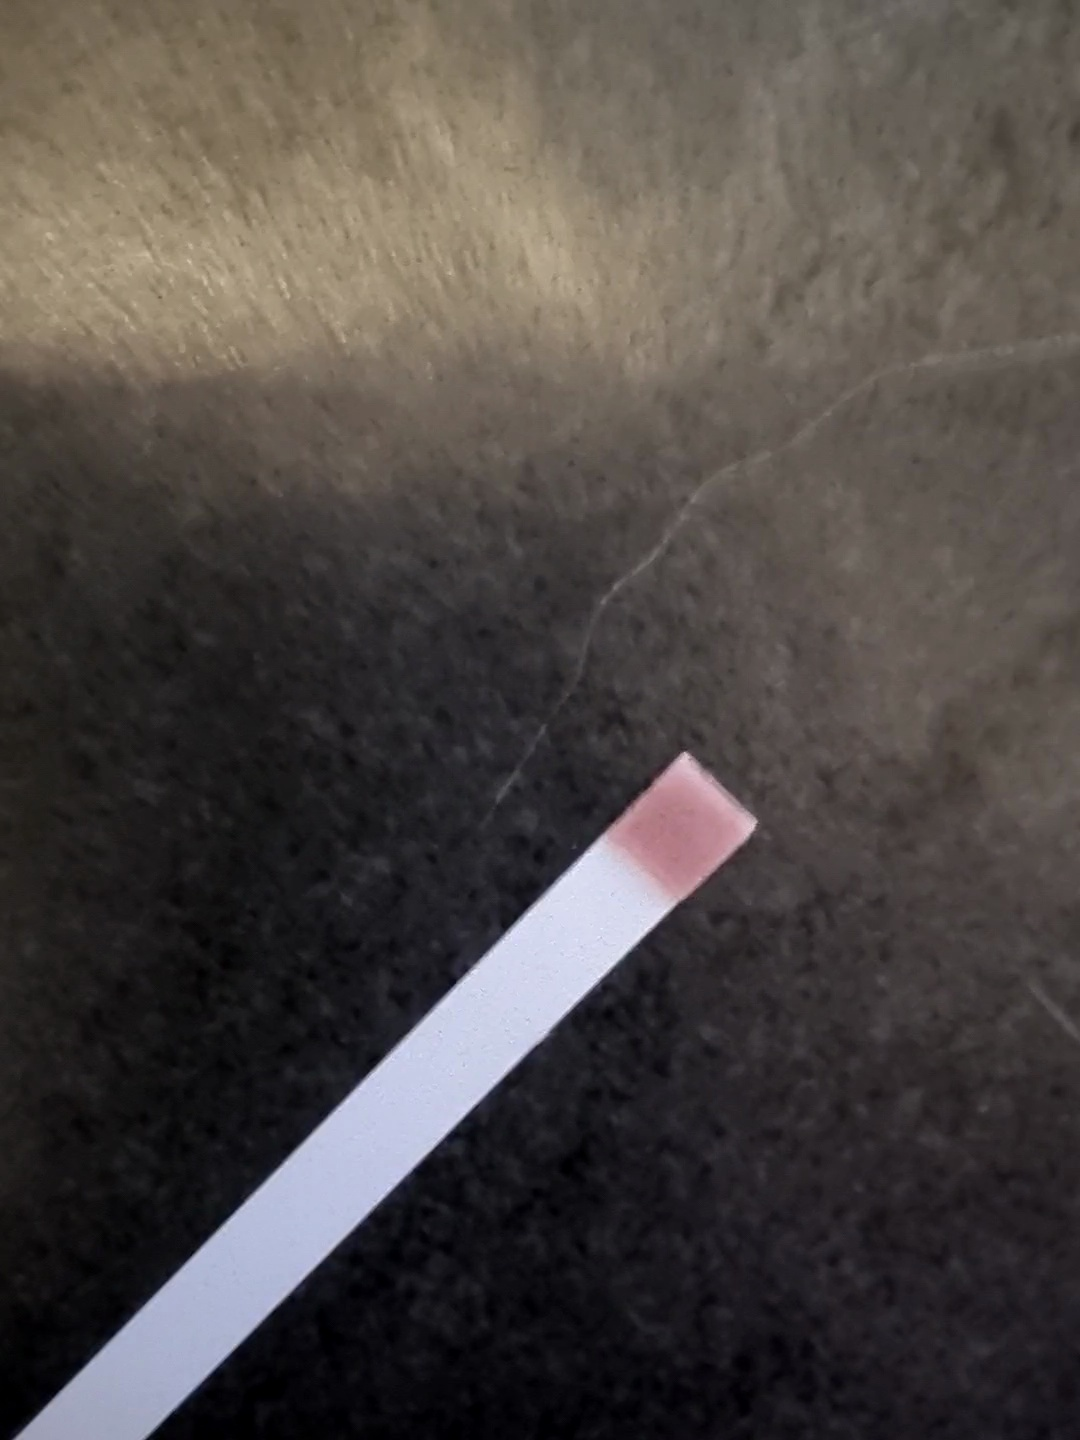keto-tip: (598, 747, 763, 910)
